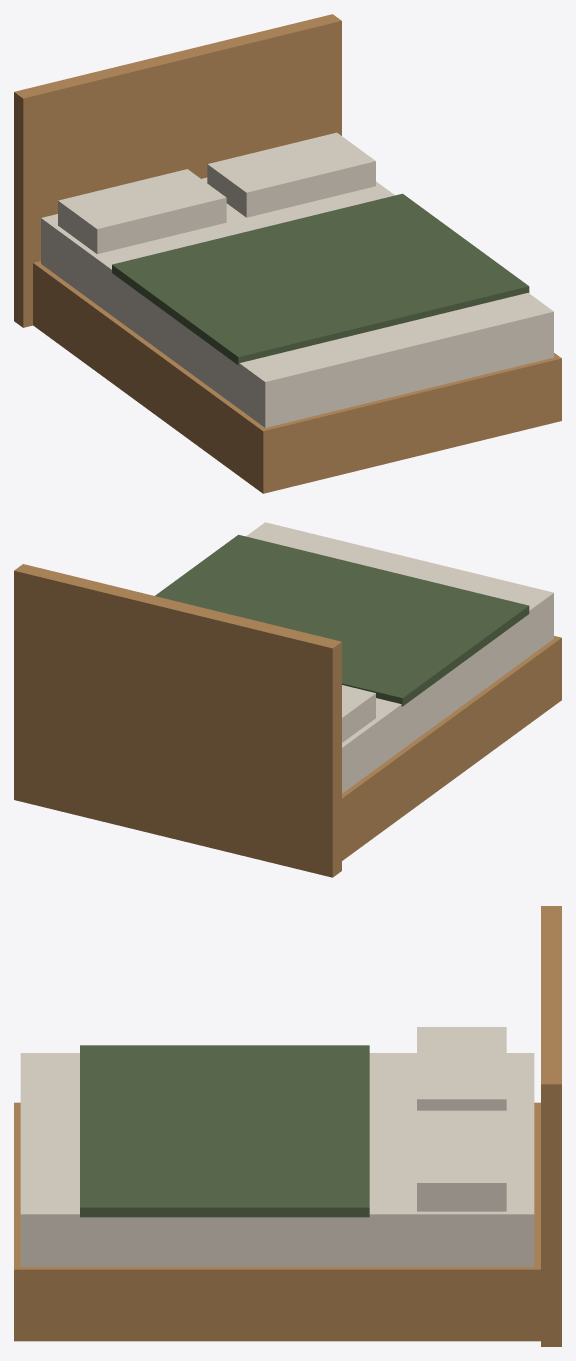
3 renders of one model, top to bottom at view 1: azimuth 30°, elevation 25°; view 2: azimuth 150°, elevation 25°; view 3: azimuth 270°, elevation 25°, orthographic. The views are drawn at different scales.
Parts seen in each view (by area): view 1: cama_dorm1; view 2: cama_dorm1; view 3: cama_dorm1.
Part boxes in pixels (x1,y1,x2,y2): cama_dorm1: (14, 14, 561, 493); cama_dorm1: (14, 522, 561, 877); cama_dorm1: (14, 906, 561, 1346).
Bounding box in the file's own units: 1.6 × 2.08 × 1.1.
